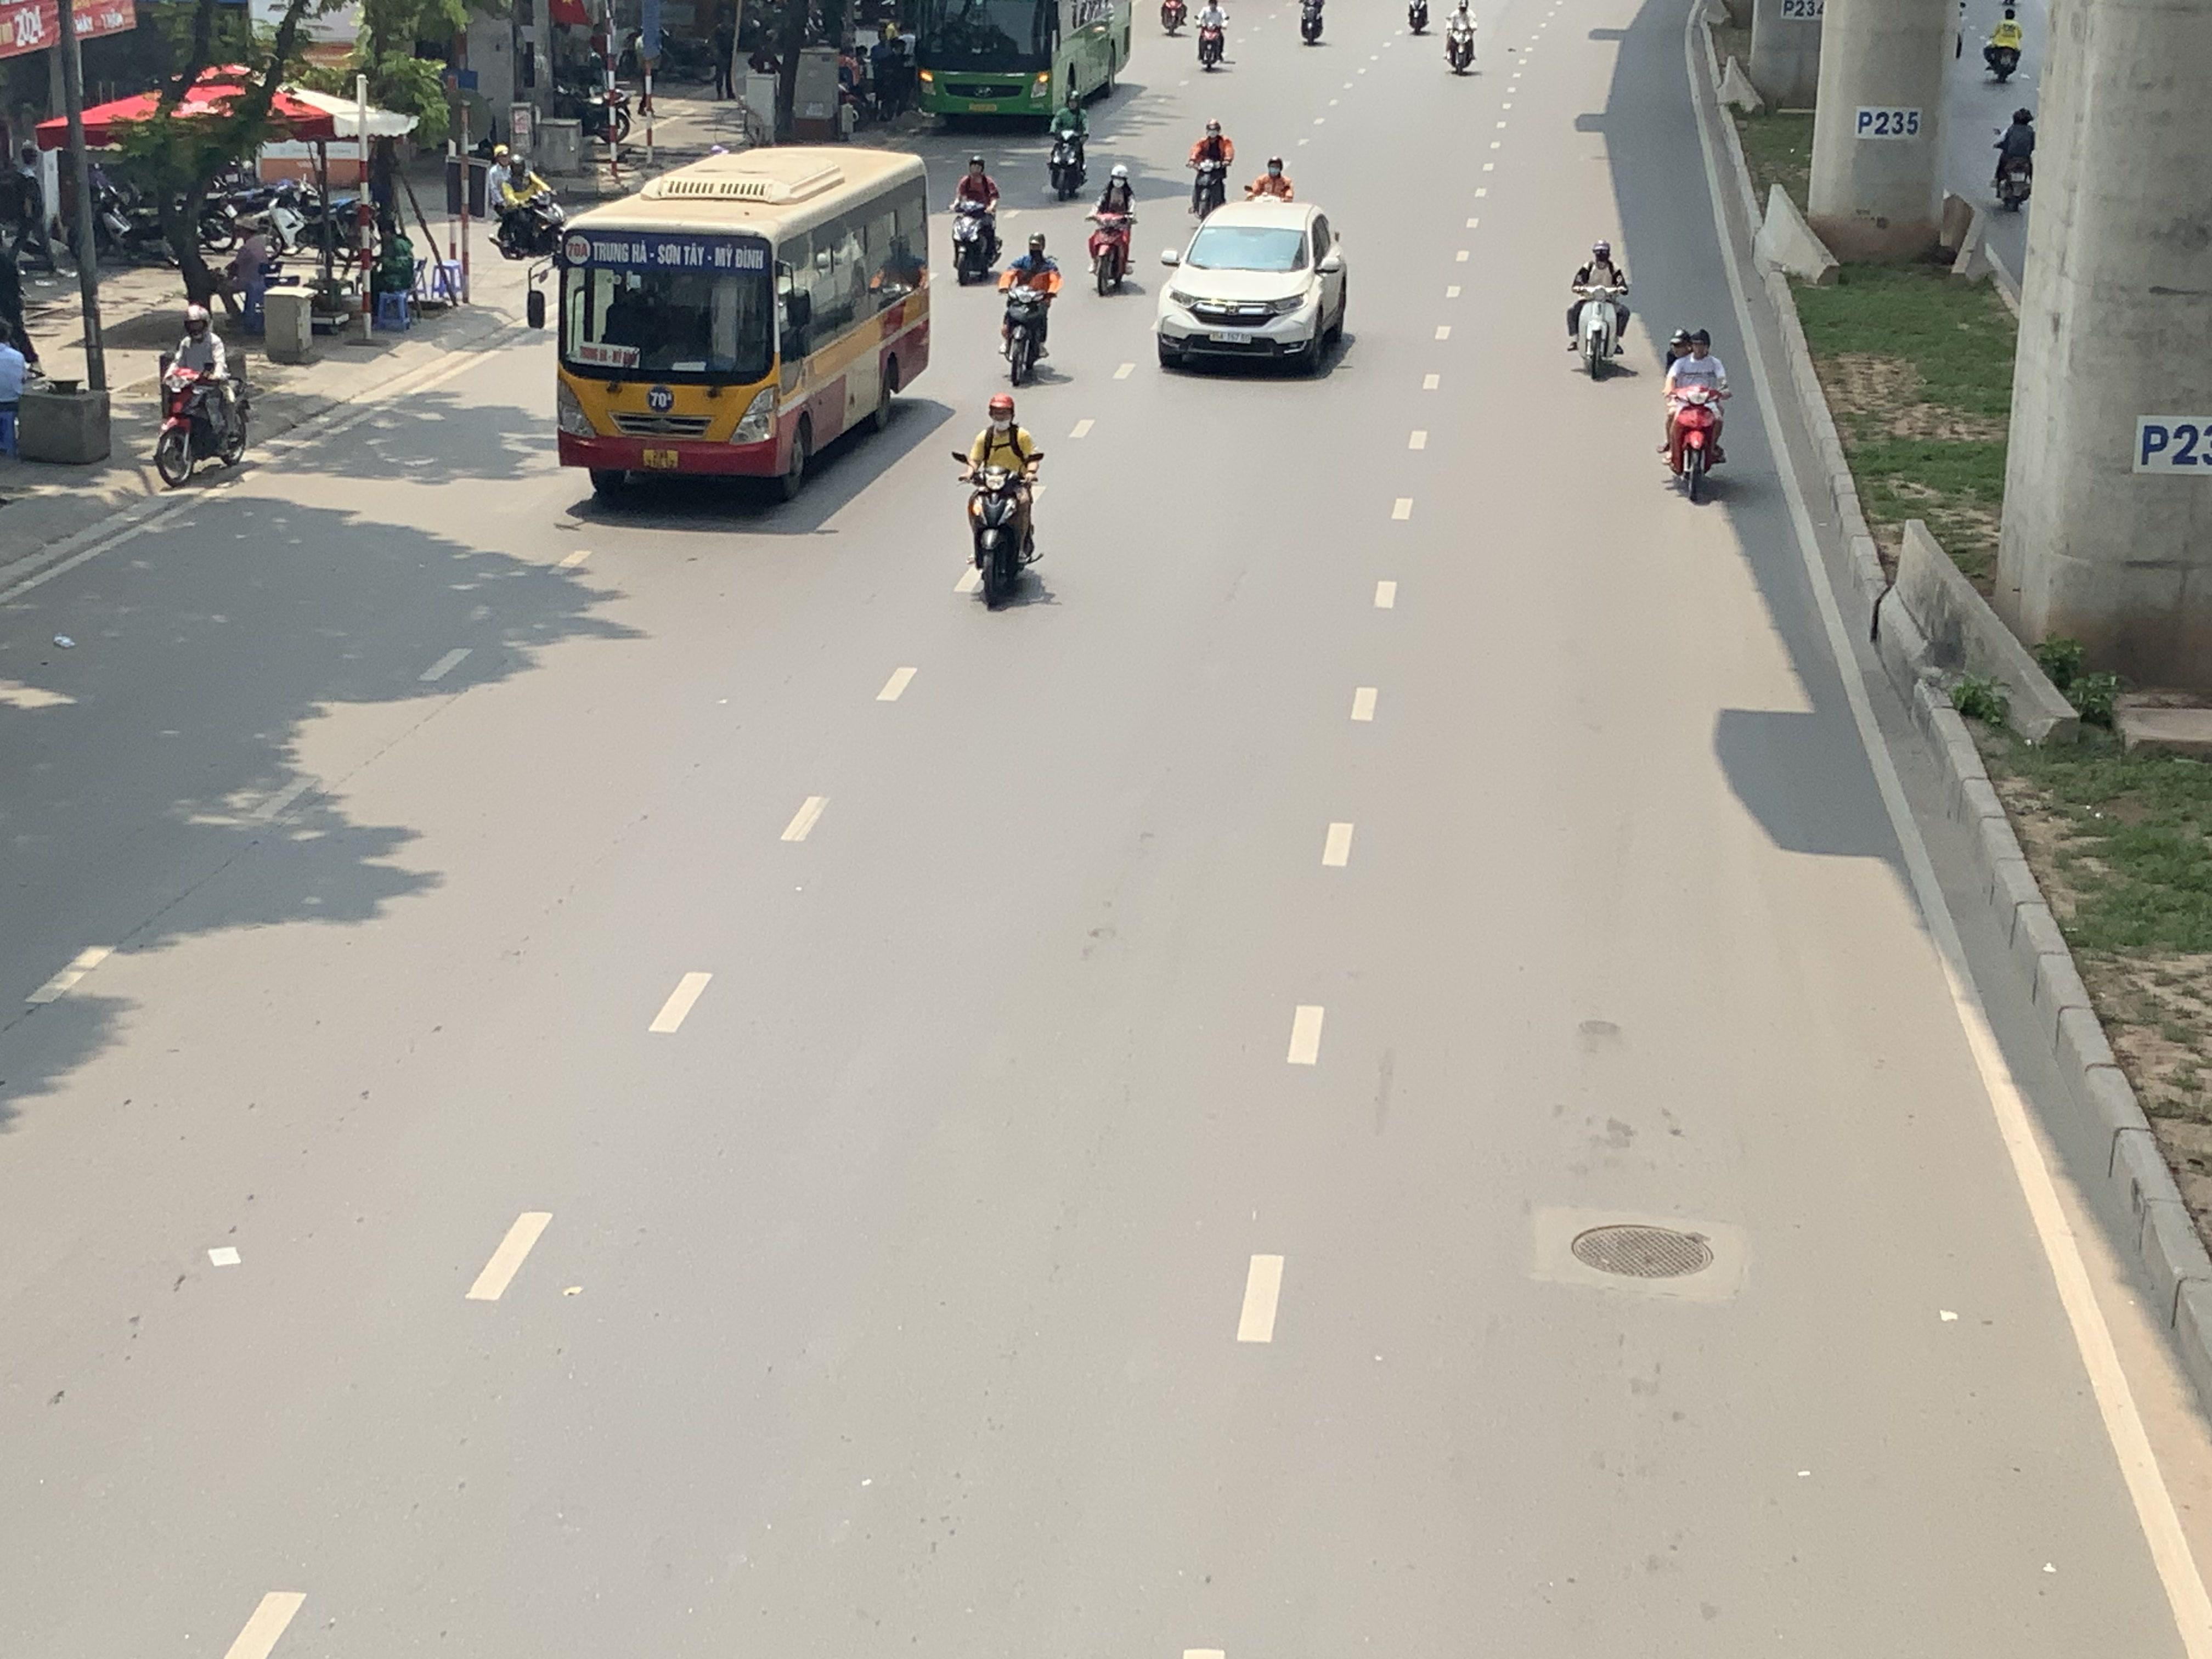BSV: (643, 448, 678, 469)
bus: (549, 143, 934, 500), (911, 0, 1134, 127)
car: (1155, 199, 1352, 378)
motorbike: (953, 392, 1047, 612), (150, 307, 251, 488), (1660, 326, 1730, 504), (998, 232, 1061, 385), (1568, 239, 1634, 380), (489, 148, 570, 258), (948, 153, 1005, 284), (1085, 167, 1139, 296), (1186, 117, 1235, 221), (1045, 96, 1090, 200), (1993, 103, 2036, 211), (1982, 2, 2024, 84), (1444, 0, 1479, 75), (1197, 0, 1230, 71), (1296, 0, 1327, 45), (1158, 0, 1188, 37), (1406, 0, 1432, 33)
